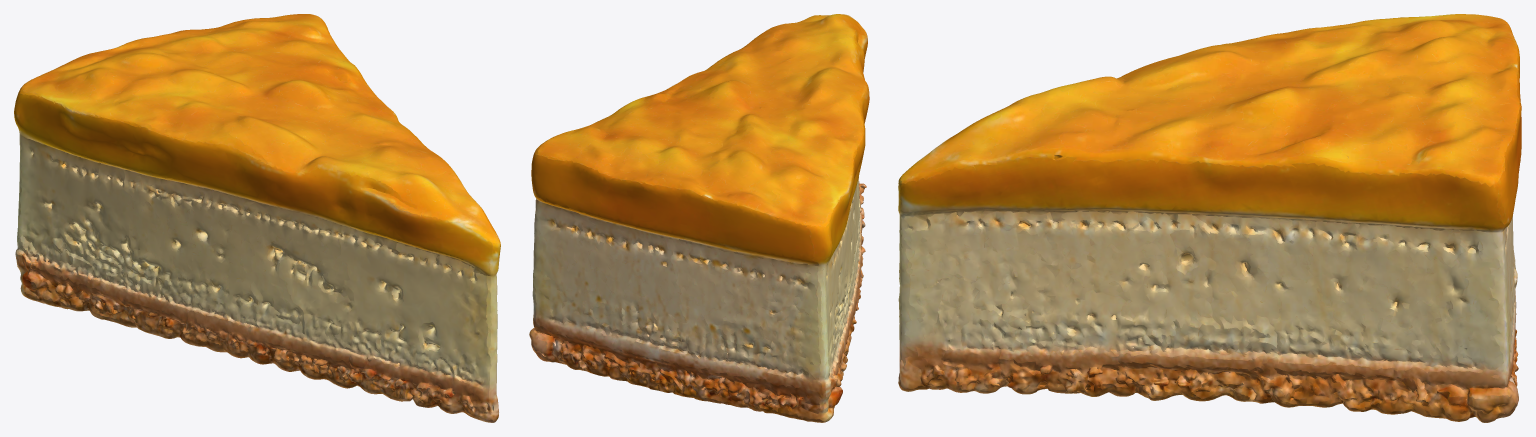
File: mango-cheesecake-0.glb
3 renders of one model, left to right at view 1: azimuth 30°, elevation 25°; view 2: azimuth 150°, elevation 25°; view 3: azimuth 270°, elevation 25°, orthographic. The views are drawn at different scales.
Parts seen in each view (by area): view 1: FoodRedoV2Alignment-0; view 2: FoodRedoV2Alignment-0; view 3: FoodRedoV2Alignment-0.
Boxes of the visible parts, <box> form: FoodRedoV2Alignment-0: <box>14,14,500,422</box>; FoodRedoV2Alignment-0: <box>529,14,869,422</box>; FoodRedoV2Alignment-0: <box>898,14,1521,422</box>.
Size of the model in its own units: 0.1 by 0.074 by 0.1501.
Materials: 1 (1 with a texture image).
